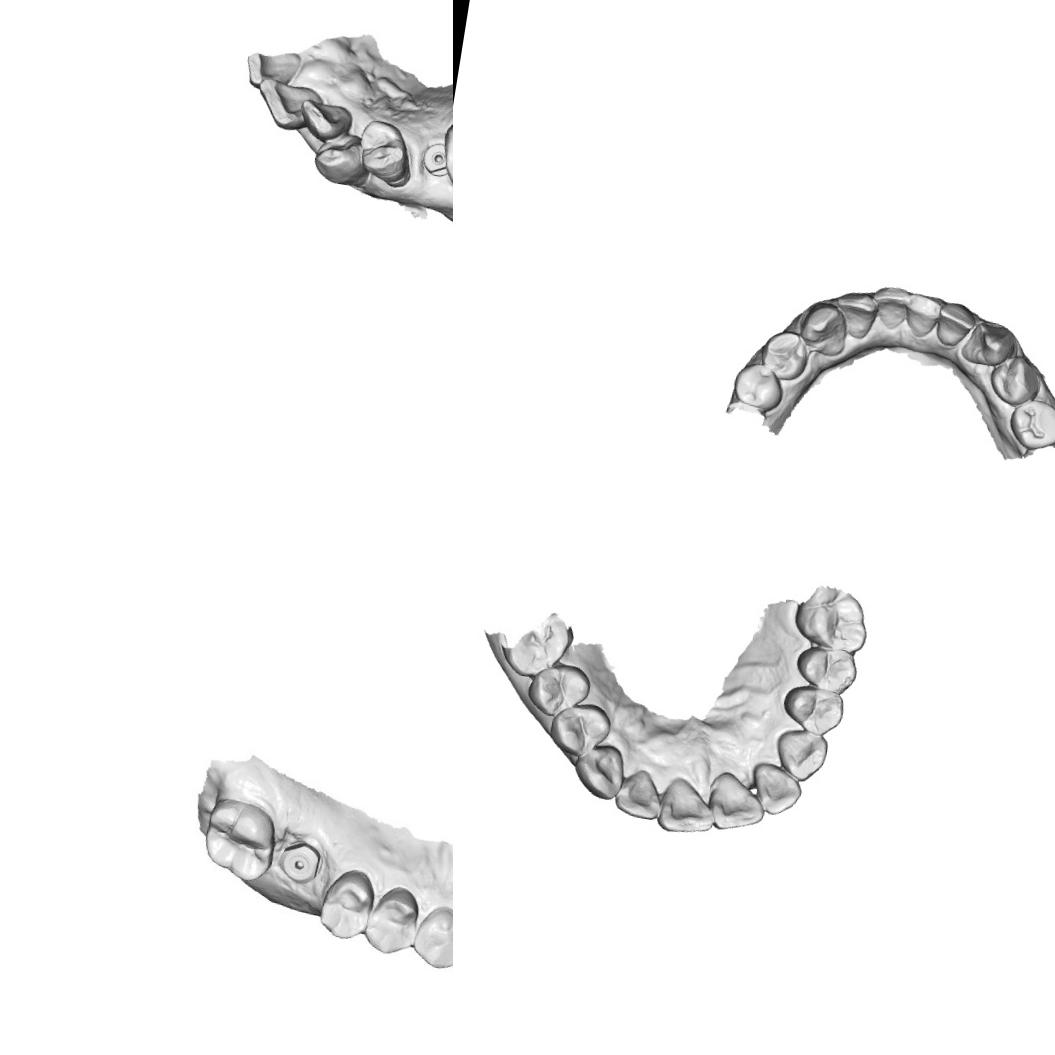canine: (770, 725, 834, 786), (570, 740, 630, 803), (310, 128, 370, 188), (407, 900, 453, 976), (796, 298, 851, 358), (958, 318, 1018, 370)
implant: (274, 836, 326, 888), (419, 139, 453, 180)
incisor: (705, 768, 772, 837), (655, 773, 718, 839), (252, 78, 326, 134), (745, 760, 809, 821), (613, 764, 670, 826), (295, 96, 355, 145), (242, 45, 301, 93), (830, 288, 882, 342), (933, 299, 979, 352), (900, 290, 946, 341), (868, 282, 914, 333)
molar: (198, 793, 282, 884), (790, 582, 872, 652), (435, 106, 453, 197)
premolar: (314, 866, 378, 944), (363, 881, 426, 960), (545, 697, 616, 765), (522, 658, 594, 725), (352, 117, 418, 188), (777, 681, 848, 740), (790, 641, 861, 698), (986, 351, 1044, 409), (730, 358, 788, 414), (758, 326, 812, 383), (1004, 395, 1055, 455)
